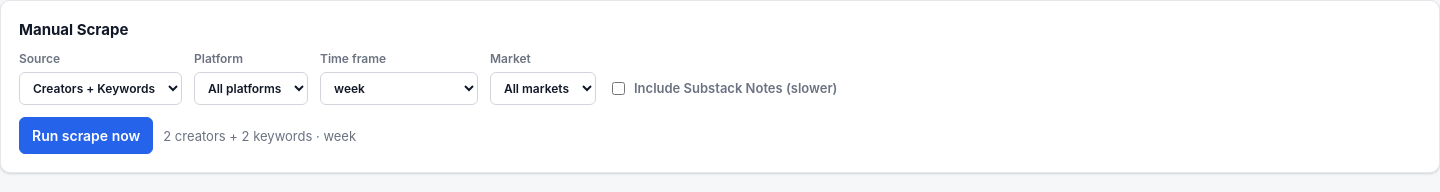
Test case: ManualScrape › runs a scrape and shows the completion pill
Click the button "Run scrape now" at (86,135), box [19,116,153,154]
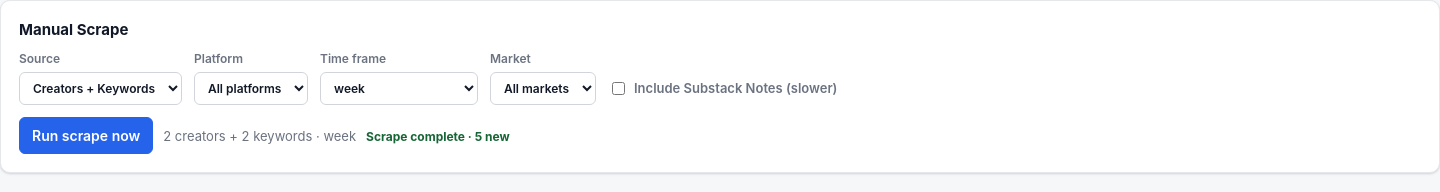
Expected: the text "Scrape complete · 5 new" is shown, [366,128,510,146]
